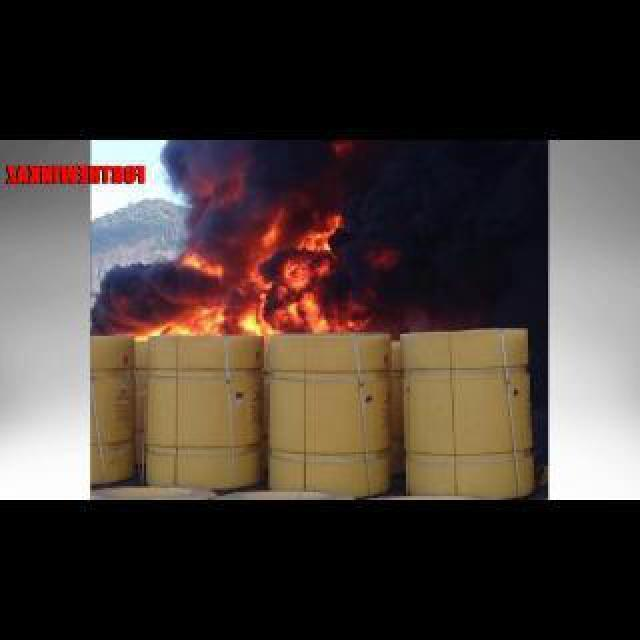fire: (153, 278, 346, 331)
smoke: (166, 142, 553, 284)
